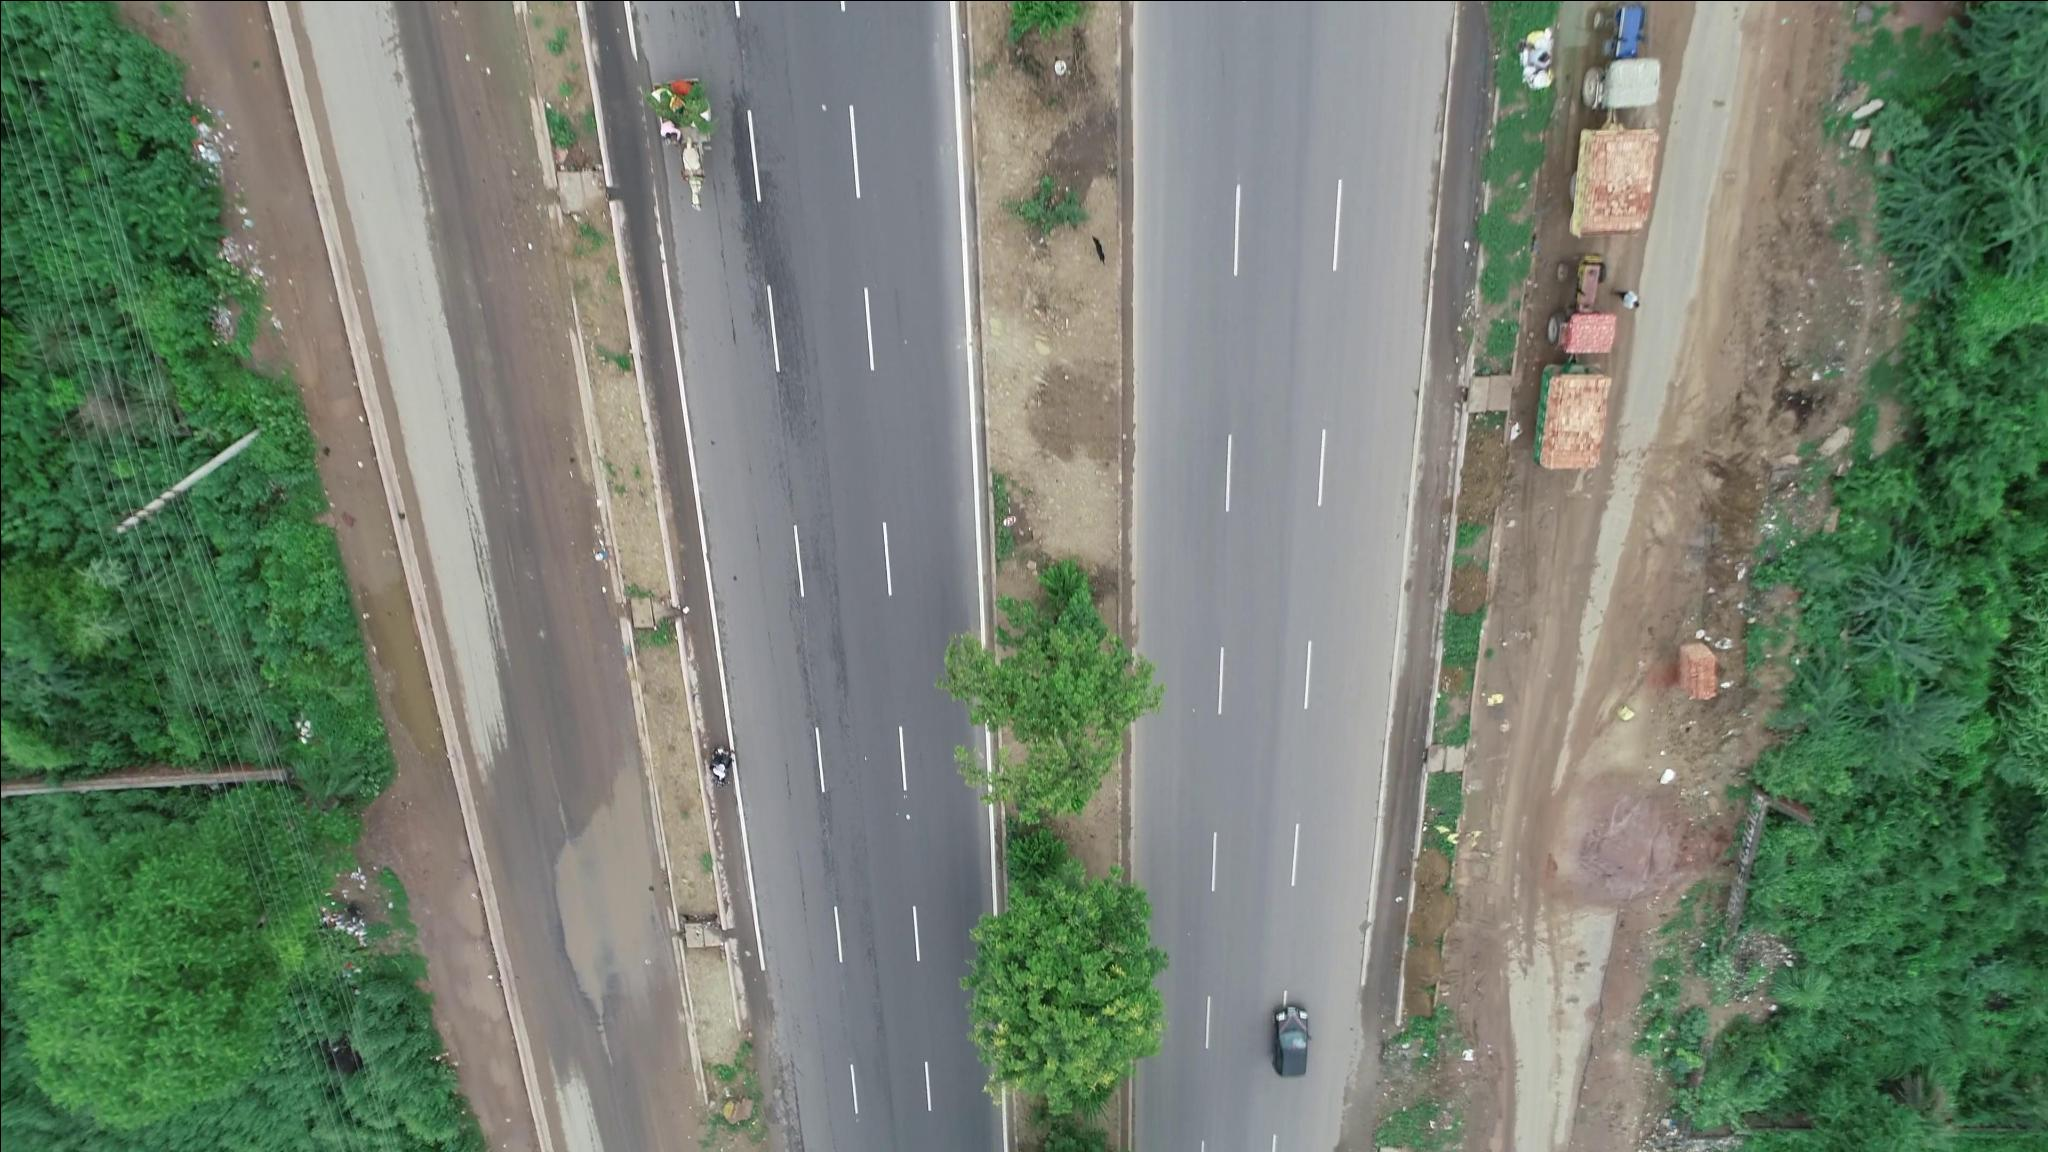Muddy_road: (1478, 504, 1660, 793), (473, 269, 587, 588), (428, 11, 535, 264)
Ravelling: (788, 544, 859, 885), (731, 226, 809, 425)
Waterlogging: (537, 758, 636, 1034)
